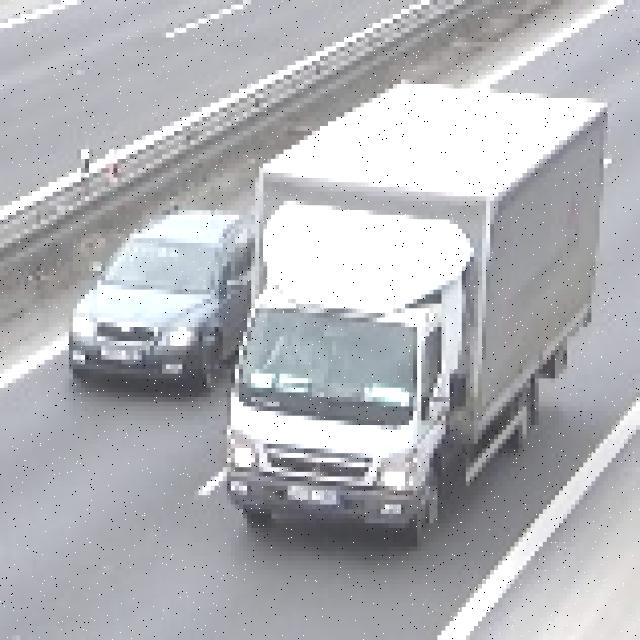truck: (218, 70, 604, 533)
